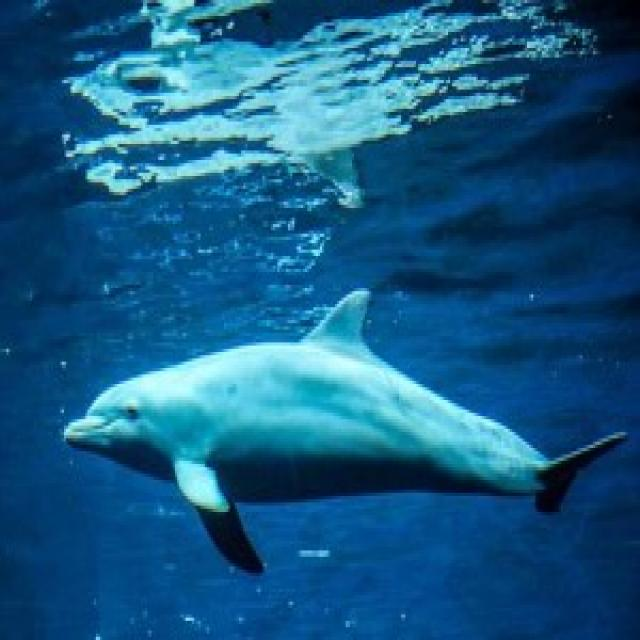Dolphin: (59, 282, 634, 583)
